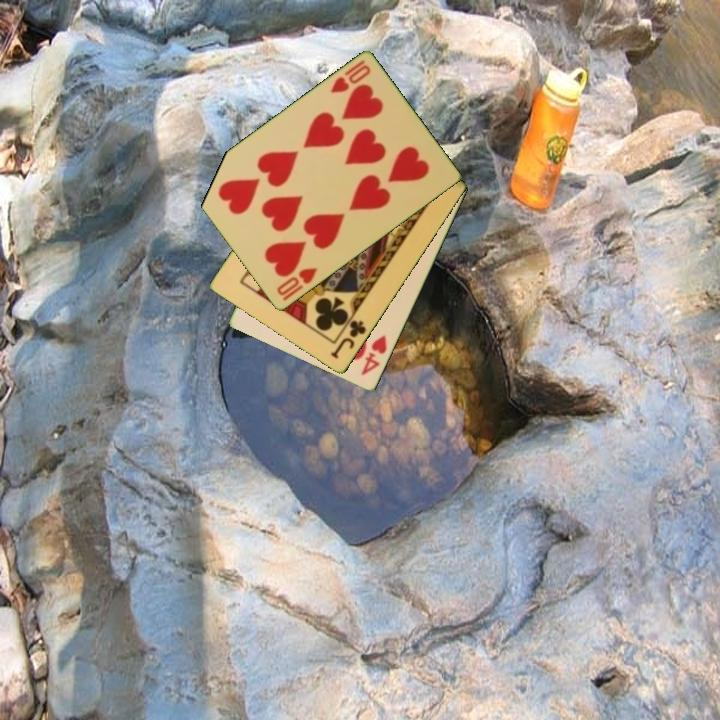10h: (327, 57, 374, 96), (273, 264, 320, 299)
4h: (357, 332, 390, 378)
Jc: (327, 317, 369, 362)
